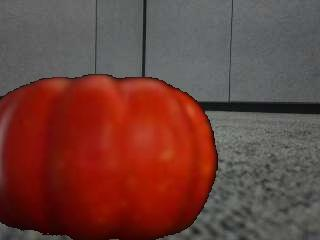Pumpkin: (0, 73, 219, 240)
